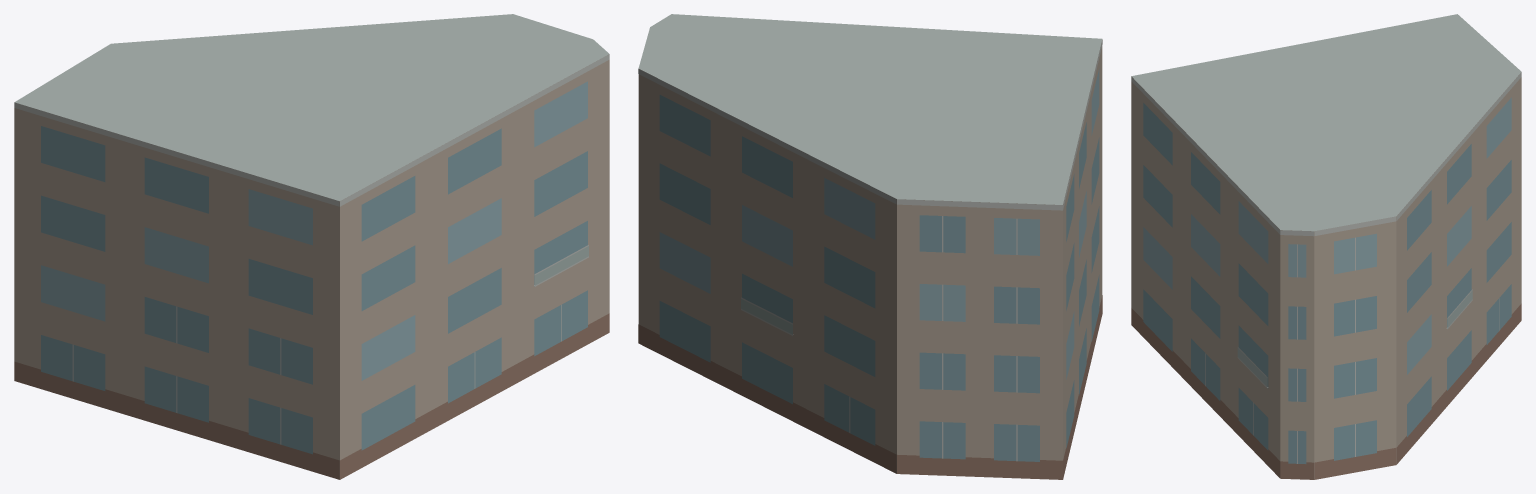
The model's file is survey-upis-32859629.glb.
3 views of the same model, side by side, from view 1: azimuth 30°, elevation 25°; view 2: azimuth 150°, elevation 25°; view 3: azimuth 270°, elevation 25° (orthographic). The views are drawn at different scales.
Parts seen in each view (by area): view 1: survey-upis-32859629.tmp; view 2: survey-upis-32859629.tmp; view 3: survey-upis-32859629.tmp.
Boxes of the visible parts, left/top/right/bottom form: survey-upis-32859629.tmp: left=14, top=14, right=609, bottom=479; survey-upis-32859629.tmp: left=638, top=14, right=1102, bottom=479; survey-upis-32859629.tmp: left=1131, top=14, right=1521, bottom=479.
Bounding box in the file's own units: 22.87 × 12.2 × 17.37.
